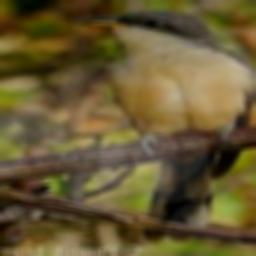Cuckoo: (80, 11, 256, 243)
